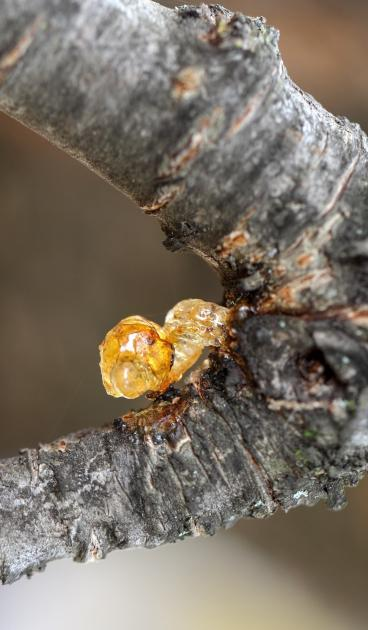gommosis: (100, 299, 228, 398)
